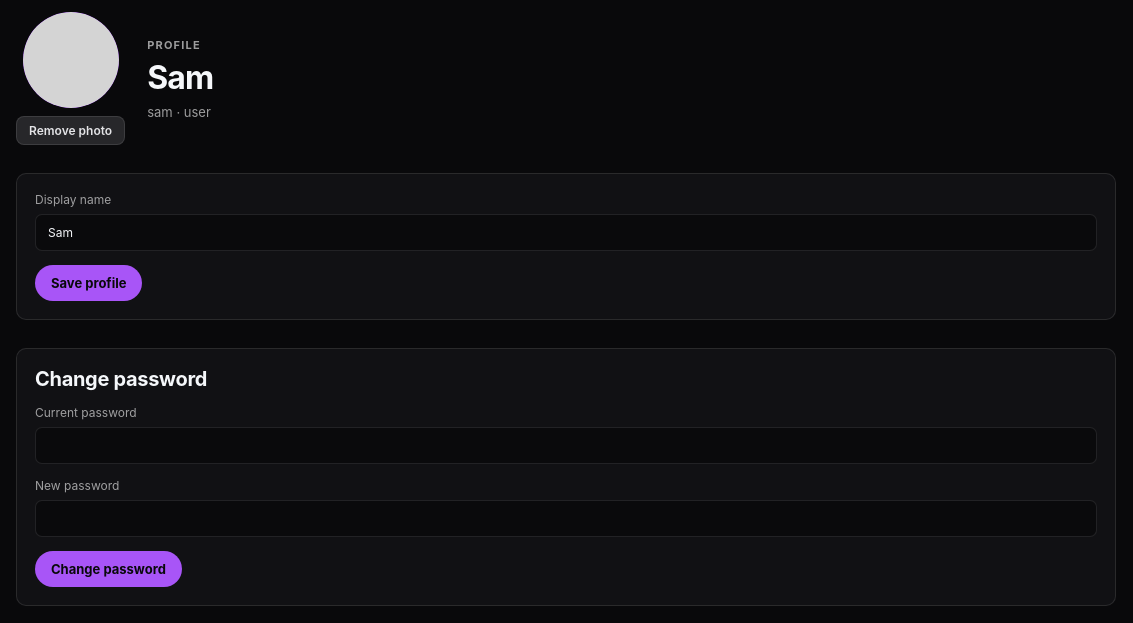
Test: removing the avatar restores the initials
Click the button "Remove photo": (71, 130) [16,116,125,145]
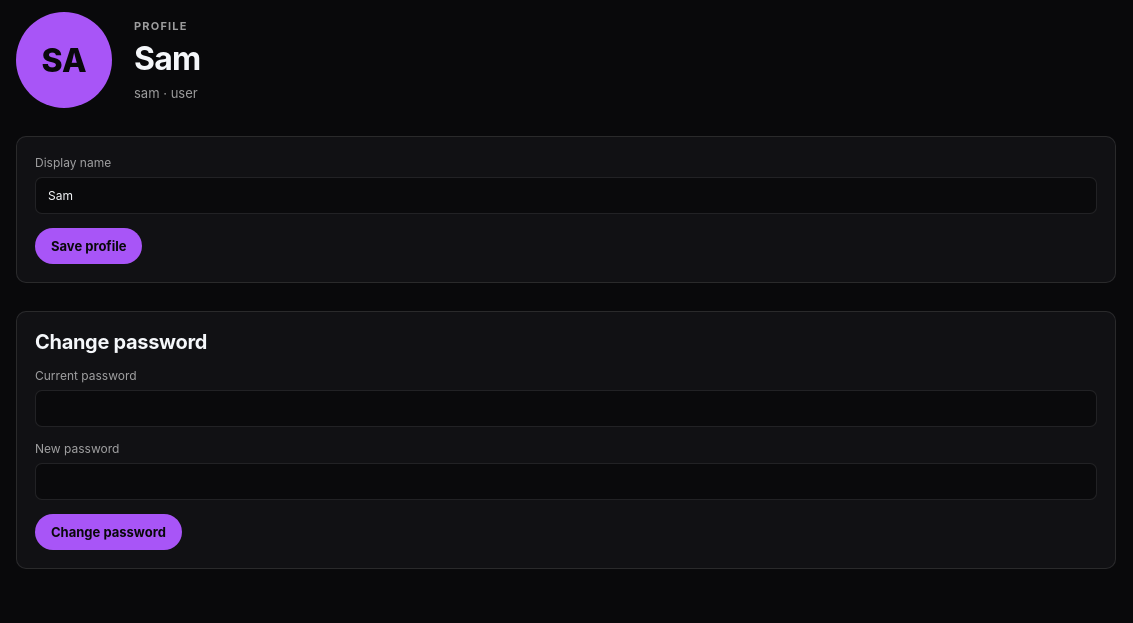
Now the button with aria-label "choose profile photo" reads "SA", box [16,12,112,108]
Now the button "Remove photo" is gone
